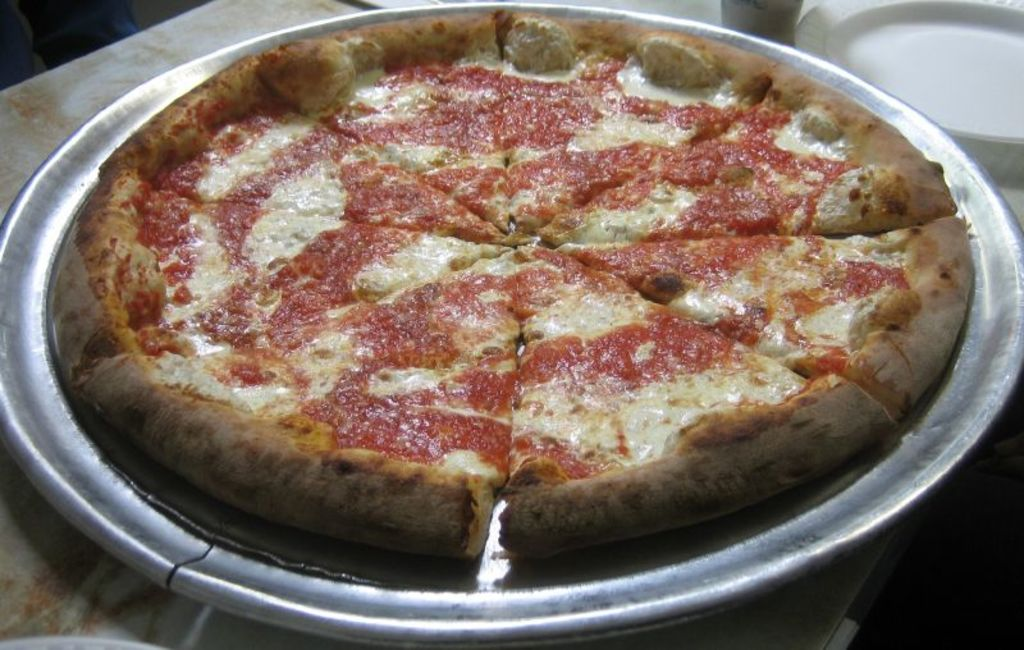Pizza: (43, 17, 970, 577)
